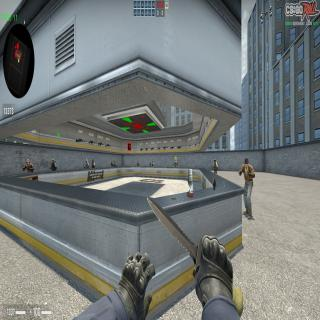CT-Body: (212, 162, 218, 174), (49, 162, 57, 171), (84, 162, 89, 170), (91, 162, 95, 168), (110, 162, 114, 167), (113, 162, 117, 167), (152, 162, 154, 166), (150, 163, 152, 166)
CT-Head: (214, 158, 216, 164), (86, 159, 88, 164), (52, 159, 54, 163), (92, 160, 94, 163), (111, 160, 112, 163), (114, 160, 115, 163), (150, 161, 151, 163), (152, 161, 153, 163)
T-Body: (239, 164, 255, 220), (22, 163, 34, 173), (136, 162, 140, 166)
T-Head: (244, 158, 248, 168), (27, 159, 30, 165), (138, 161, 138, 163)
